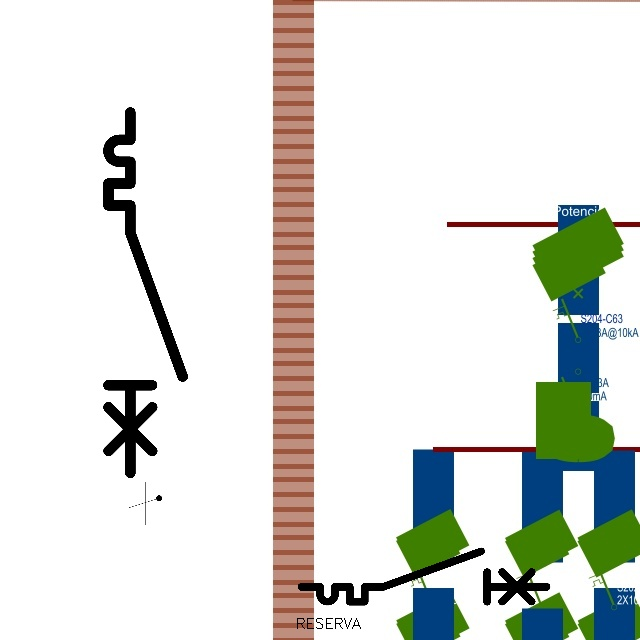interruptor_termomagnetico: (99, 103, 191, 482), (295, 545, 553, 608)
